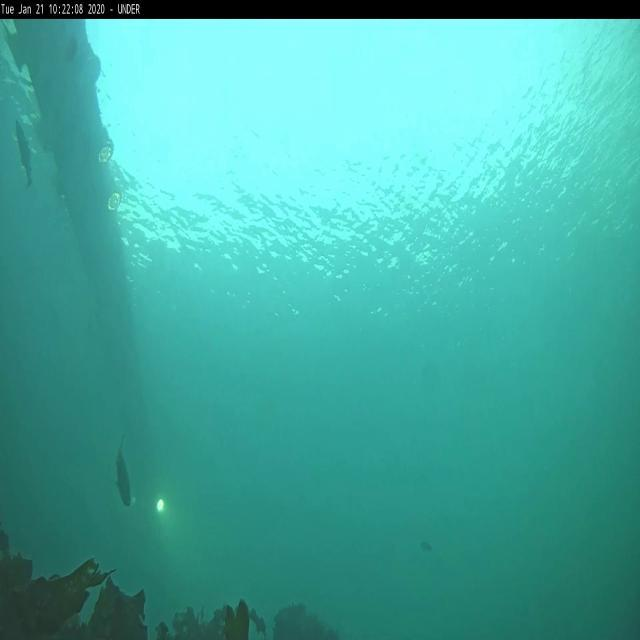fish: (15, 120, 32, 192), (115, 442, 130, 507), (420, 539, 432, 551)
